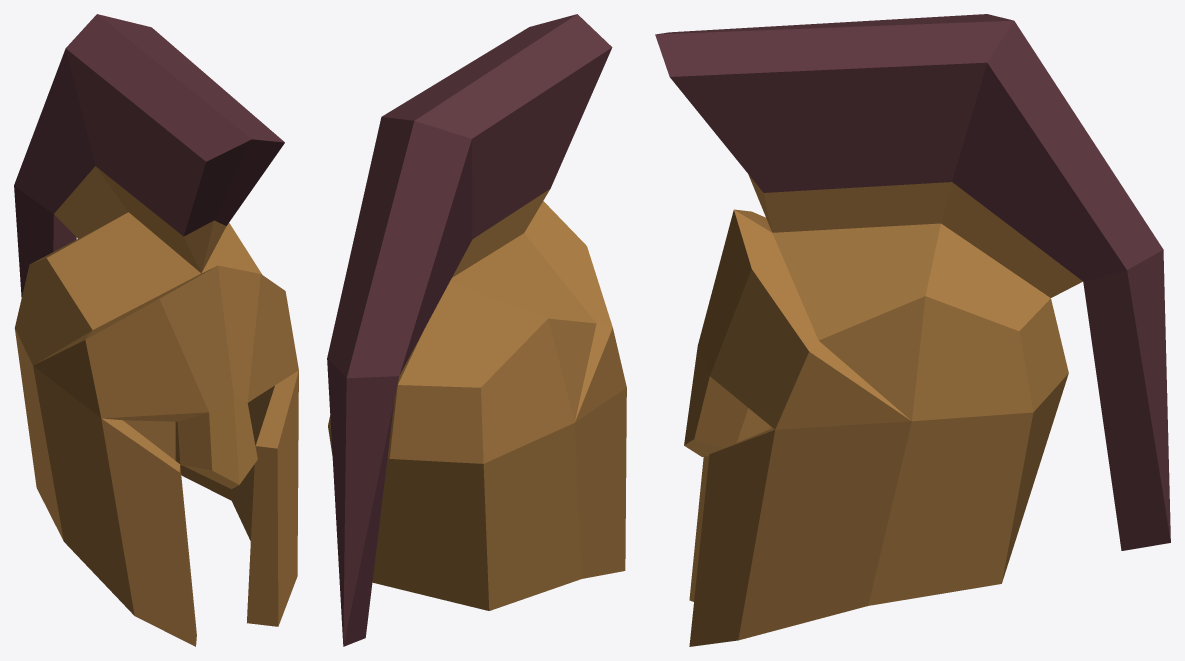
The model's file is empire-helmet-greek-empire.glb.
3 renders of one model, left to right at view 1: azimuth 30°, elevation 25°; view 2: azimuth 150°, elevation 25°; view 3: azimuth 270°, elevation 25°, orthographic. The views are drawn at different scales.
Visible parts, largest first — view 1: SM_Helmet_Greek_Empire; view 2: SM_Helmet_Greek_Empire; view 3: SM_Helmet_Greek_Empire.
Part boxes in pixels (box(x1,y1,x2,y2)): SM_Helmet_Greek_Empire: box(14, 14, 298, 646); SM_Helmet_Greek_Empire: box(327, 14, 626, 646); SM_Helmet_Greek_Empire: box(655, 14, 1170, 646).
Bounding box in the file's own units: 0.1904 × 0.4405 × 0.3392.
